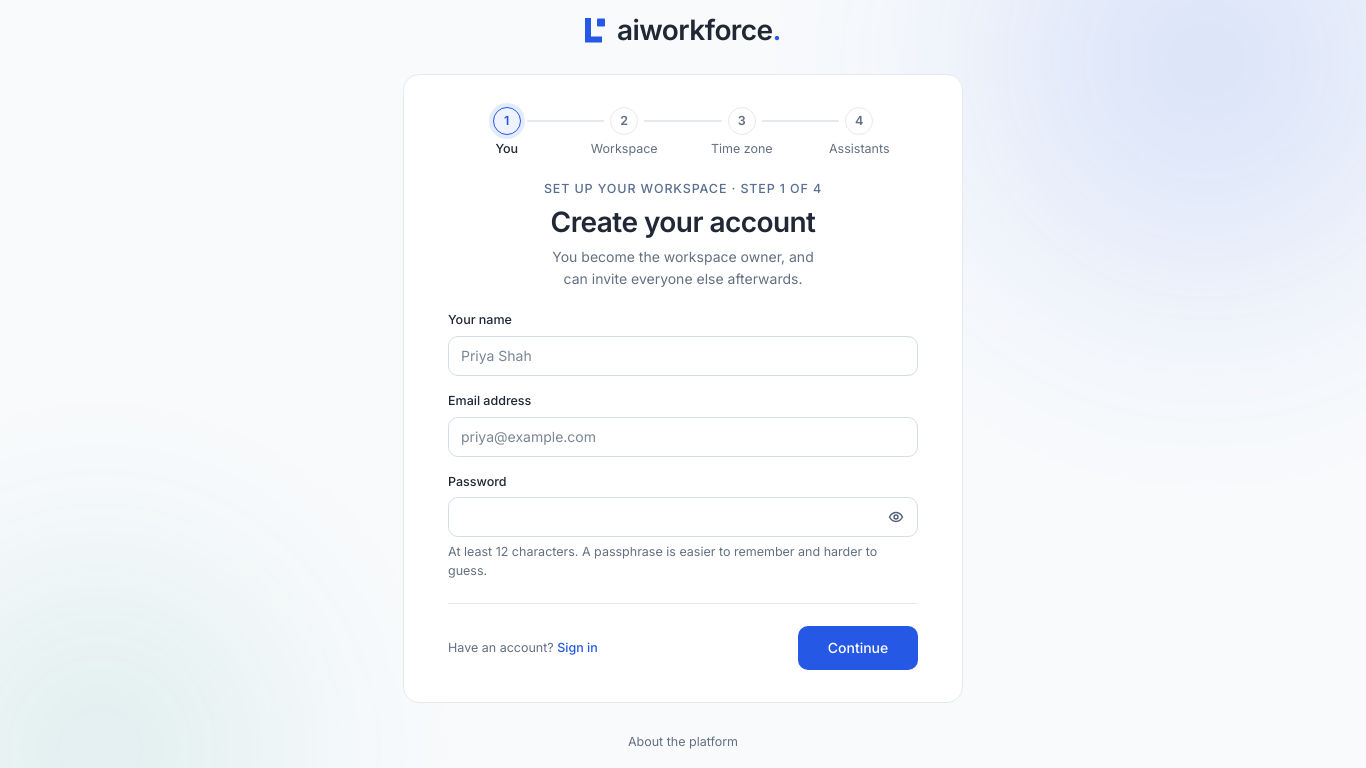
it: the steps › asks for a missing password plainly, and counts the characters of a short one
Click the button "Continue".
click(858, 648)  # box [798,626,918,670]
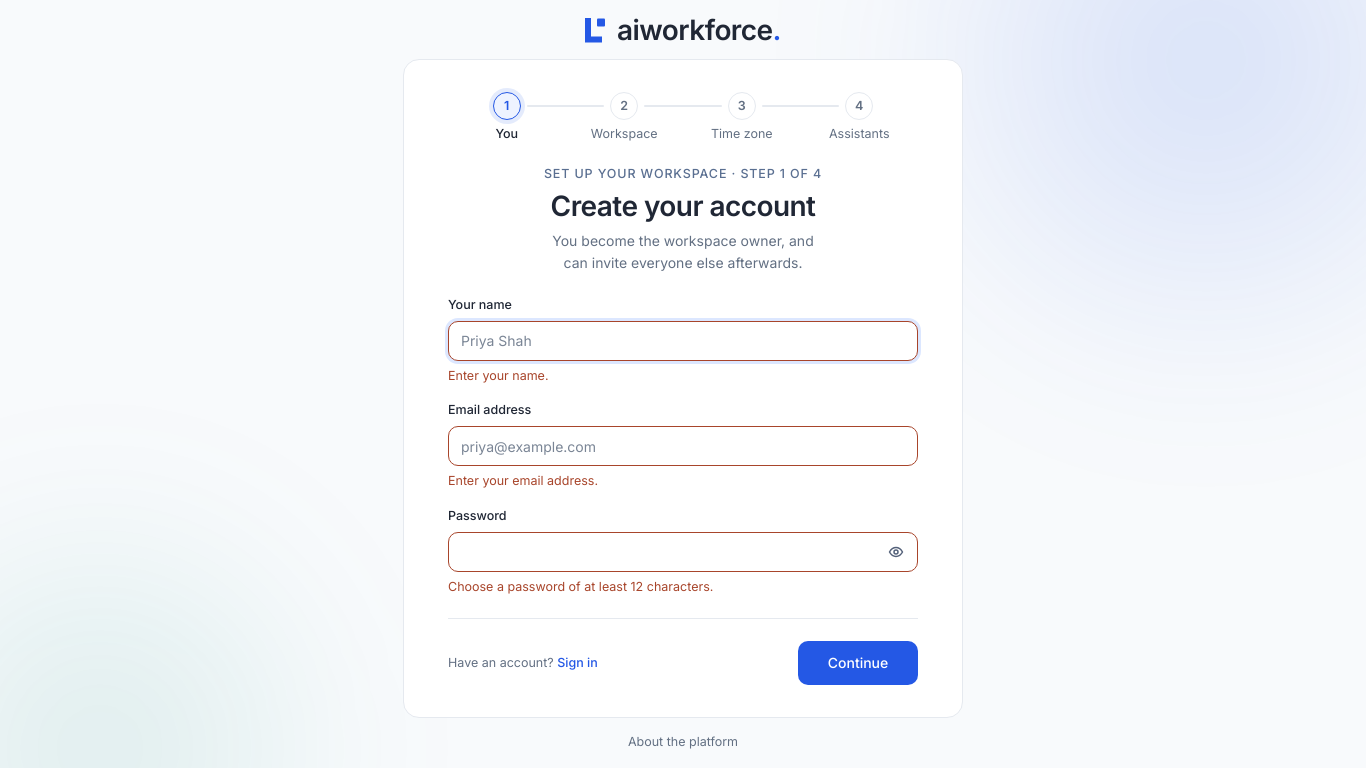
Result: the text "Choose a password of at least 12 characters." is shown at [448,579,713,594]
Type "short" into the password field labelled "Password".
click(683, 552); type("short")  # box [448,532,918,572]
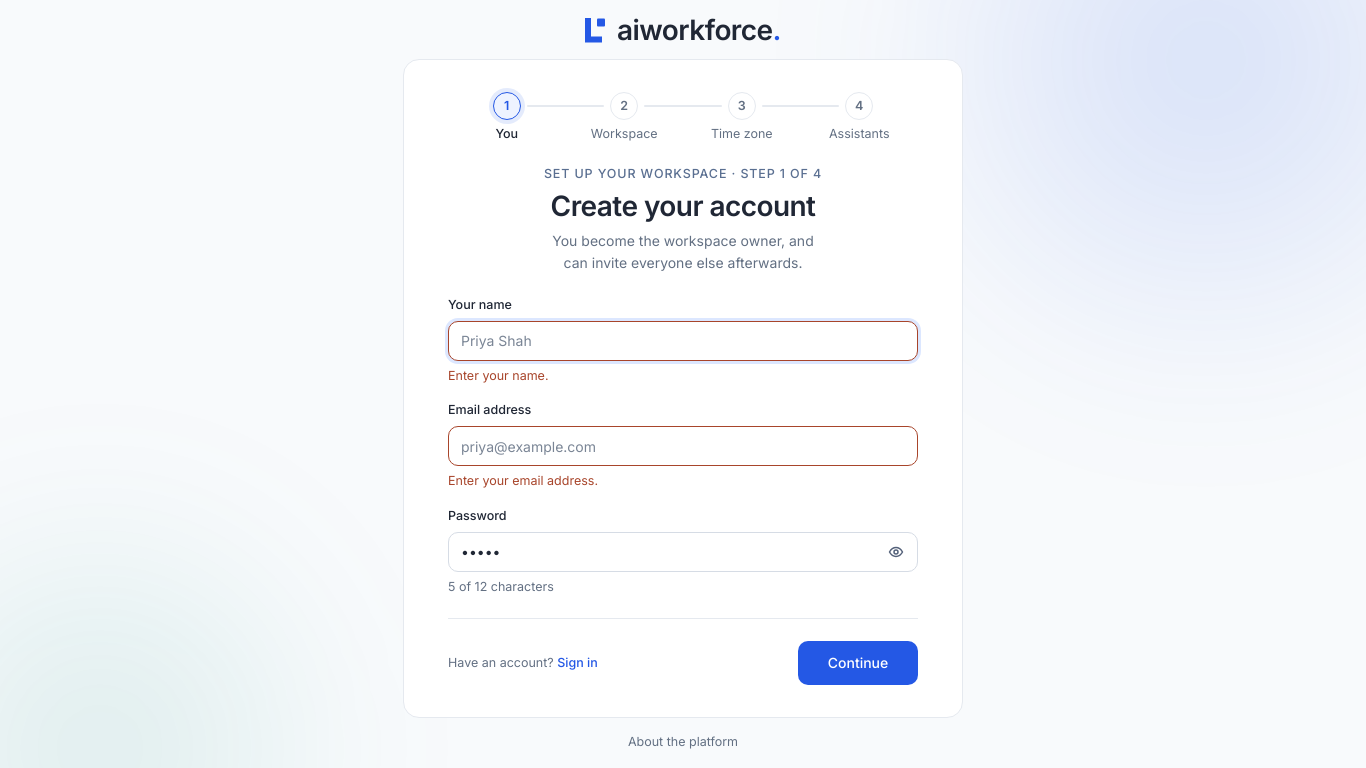
Click the button "Continue".
click(858, 663)  # box [798,641,918,685]
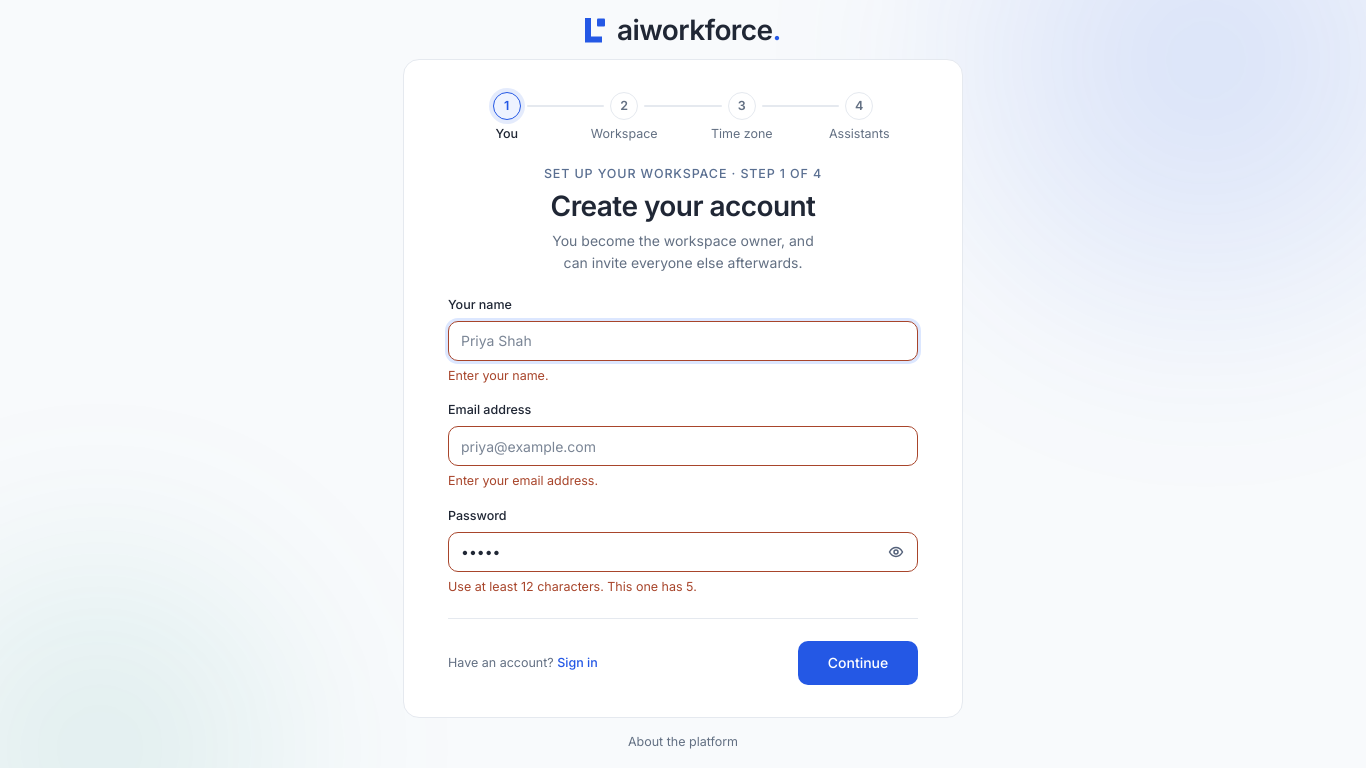
Result: the text "Use at least 12 characters. This one has 5." is shown at [448,579,697,594]
